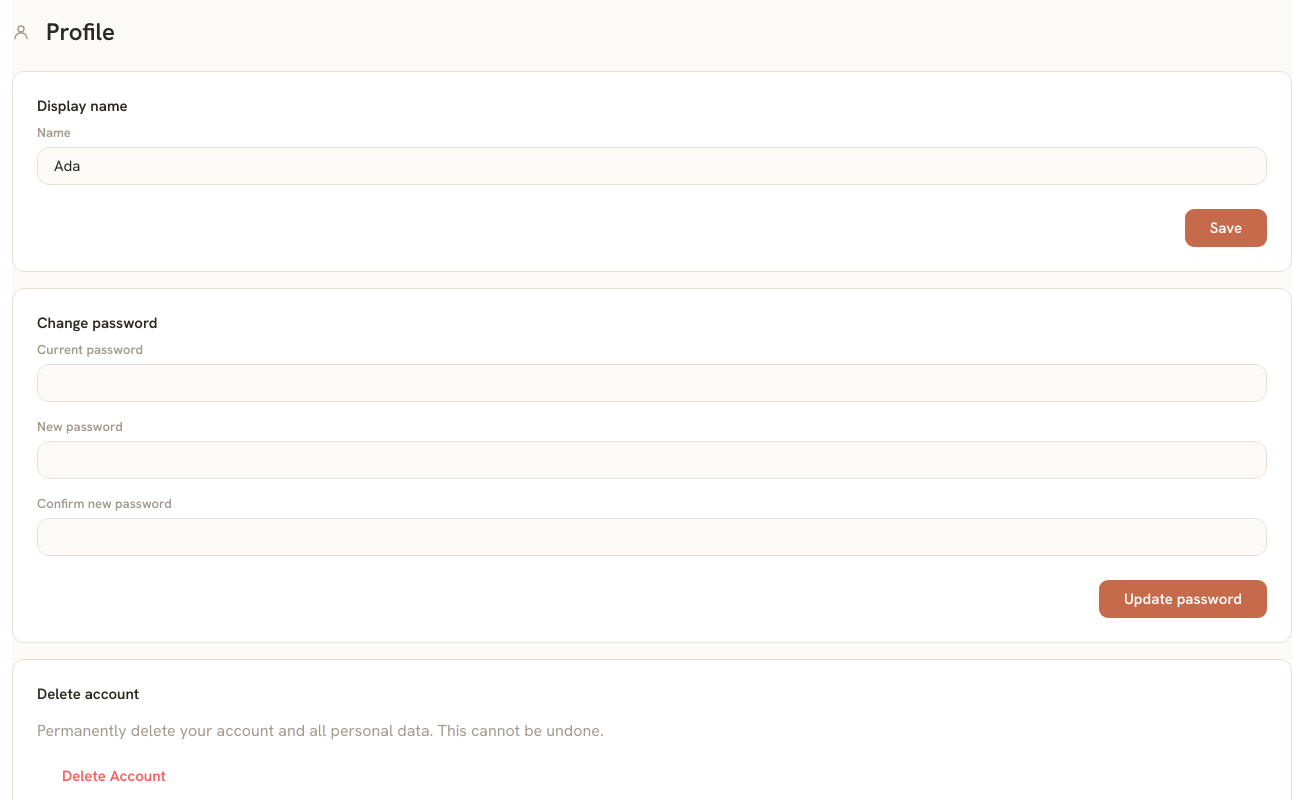
Test: ProfilePage › changes the password when the fields are valid
Type "old" into the password field labelled "Current password". click: [652, 383]
box: [37,364,1267,402]
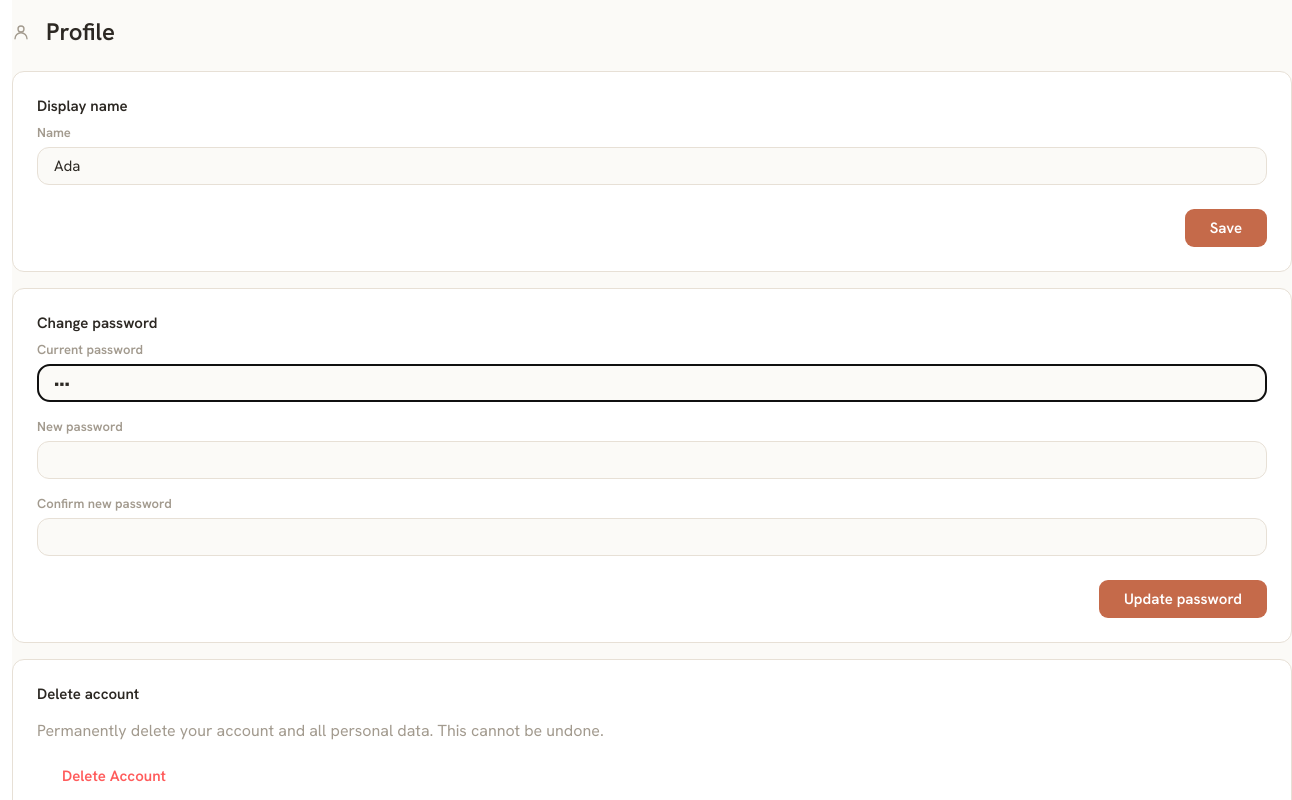
Type "newpass1" into the password field labelled "New password". click: [652, 460]
box: [37,441,1267,479]
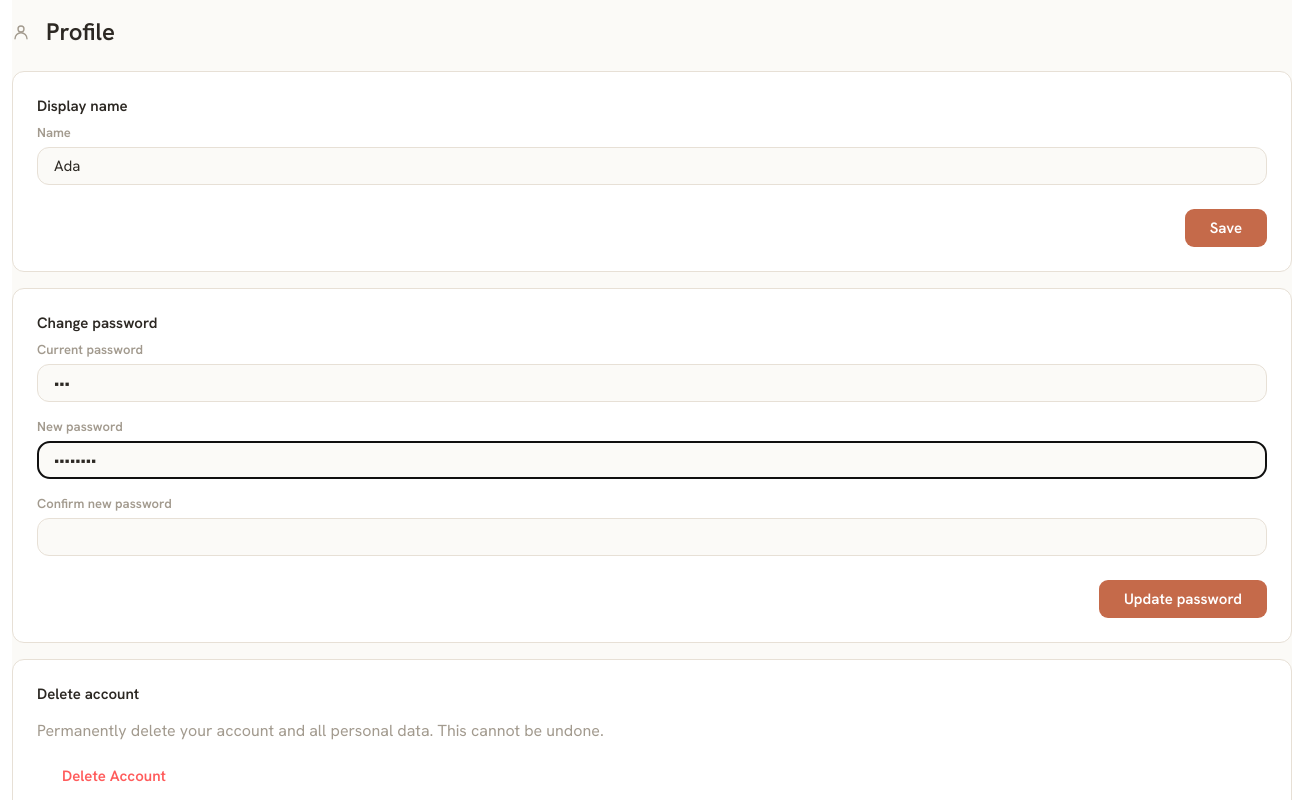
Type "newpass1" into the password field labelled "Confirm new password". click: [652, 537]
box: [37,518,1267,556]
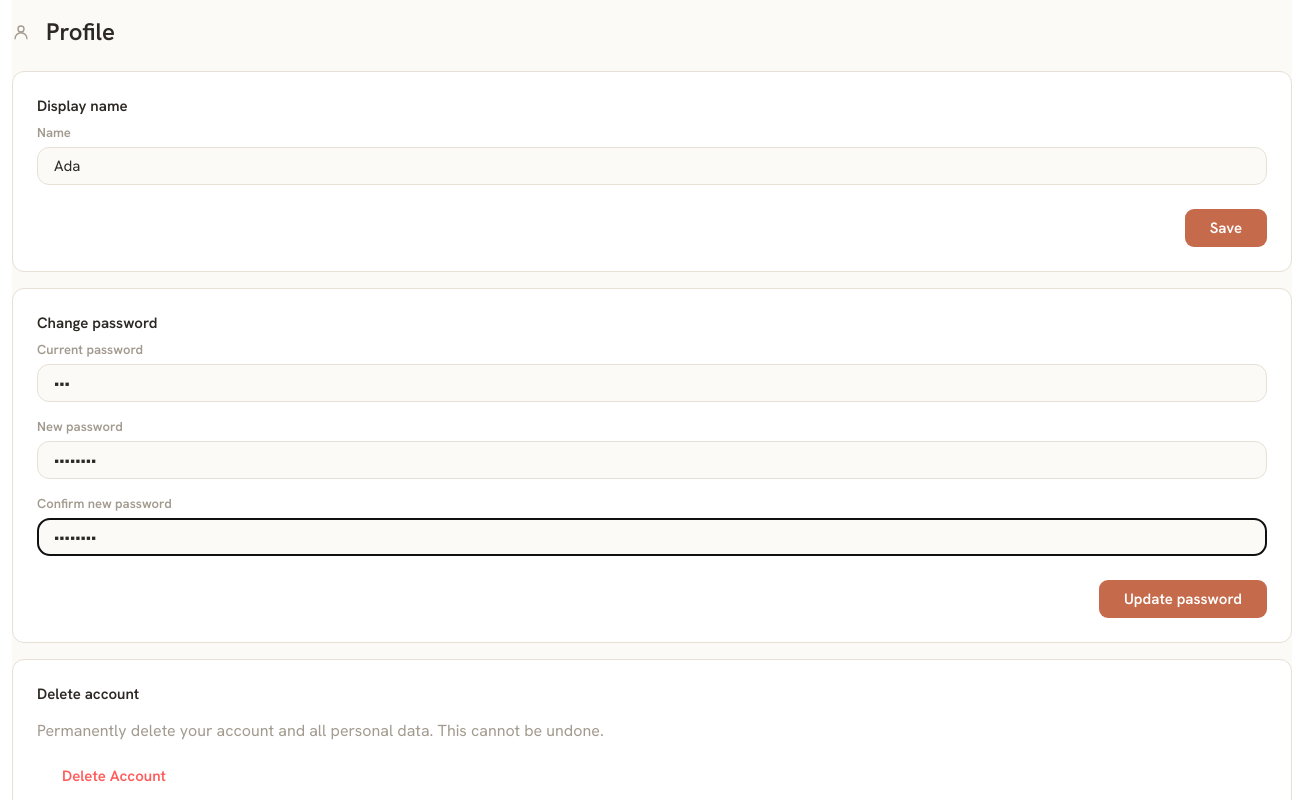
Click the button "Update password". click: [1183, 599]
box: [1099,580,1267,618]
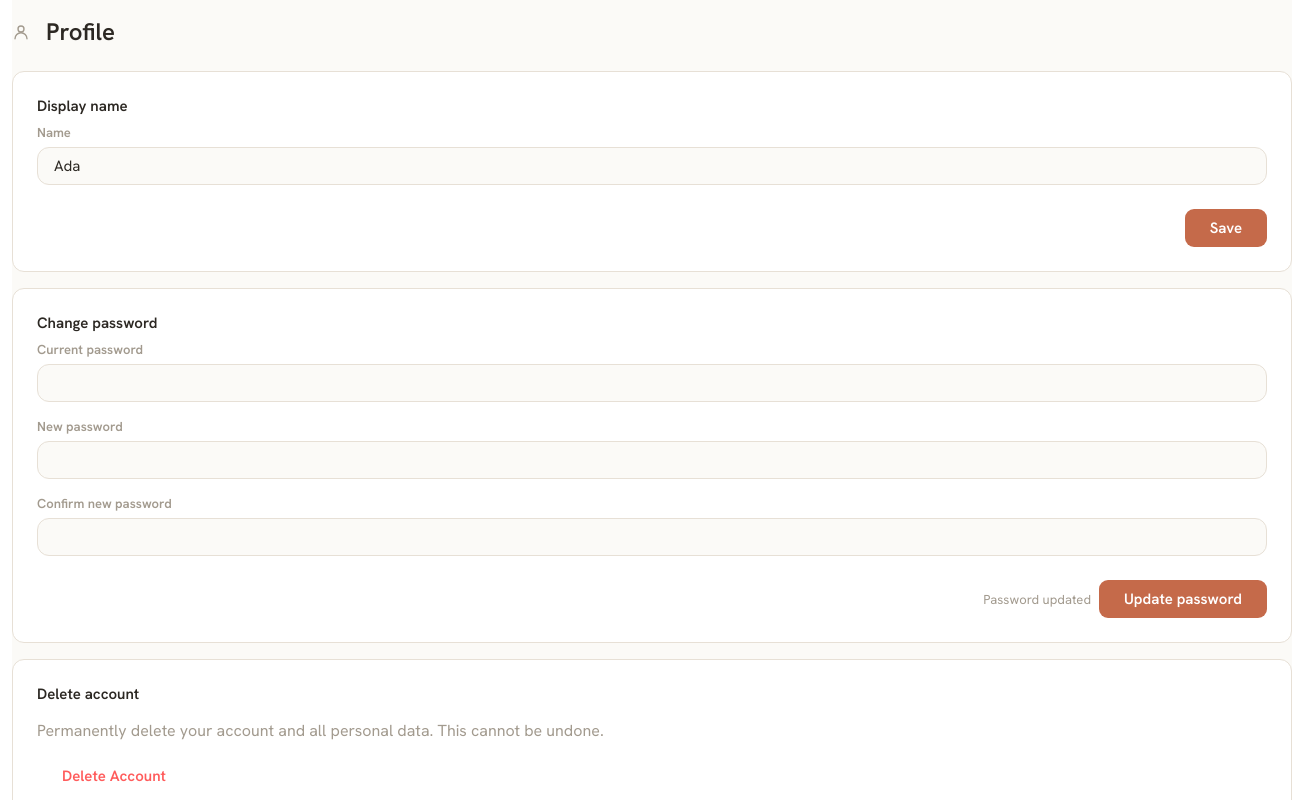
Result: the text "Password updated" is shown at [983,590,1091,608]
